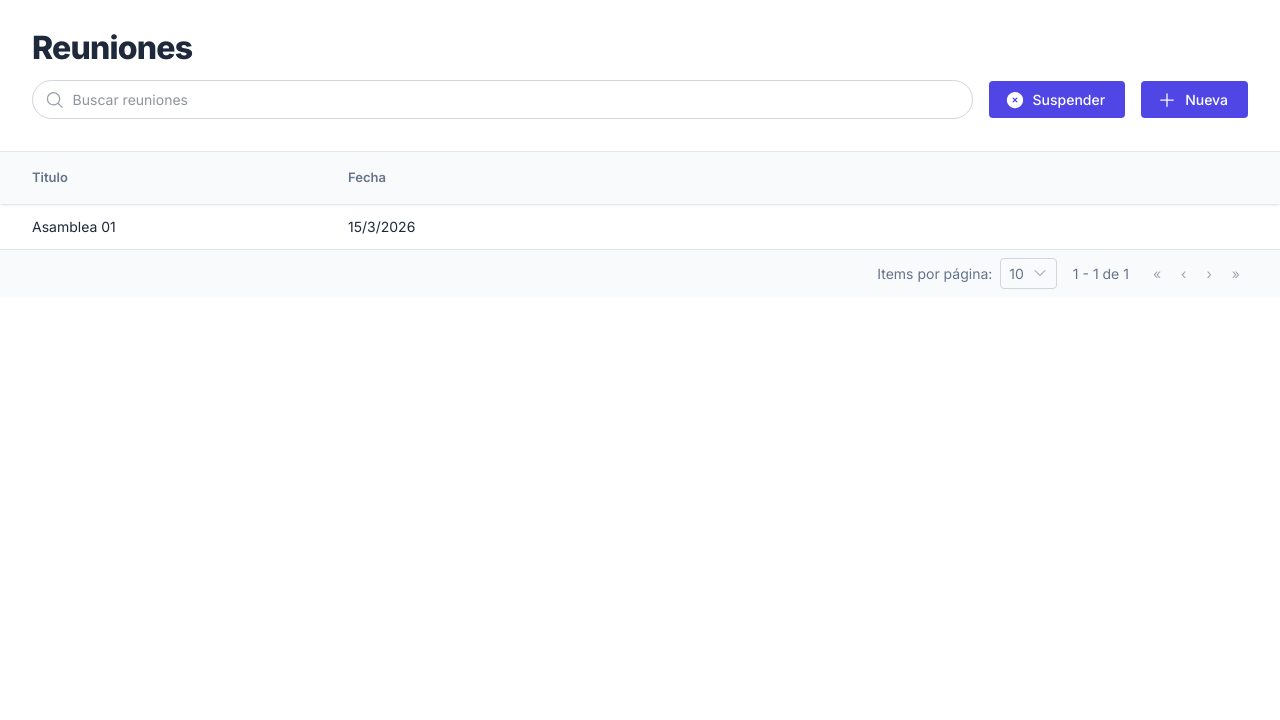
it: MeetingsList › «Suspender» abre su diálogo
Expected: the text "Asamblea 01" is shown, [32,218,116,234]
Click the button "Suspender".
click(1057, 100)  # box [988,81,1125,118]
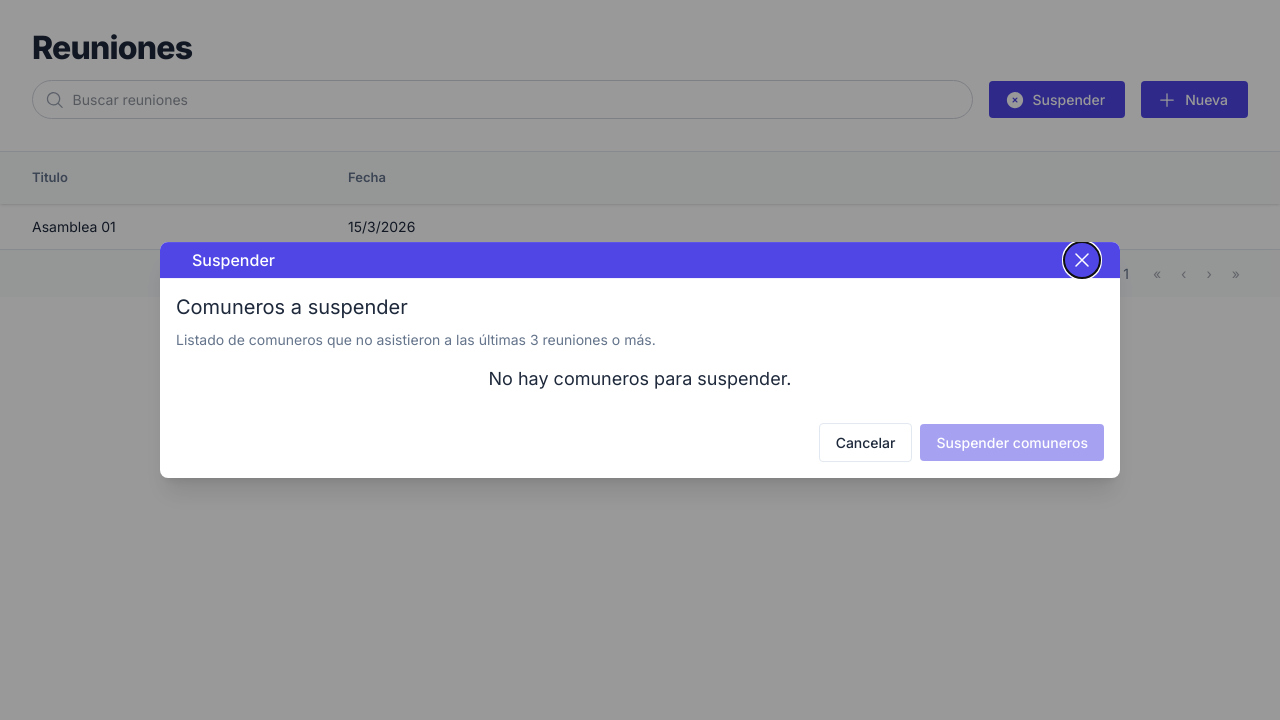
Expected: the dialog "Suspender" is shown, [160,242,1120,478]
